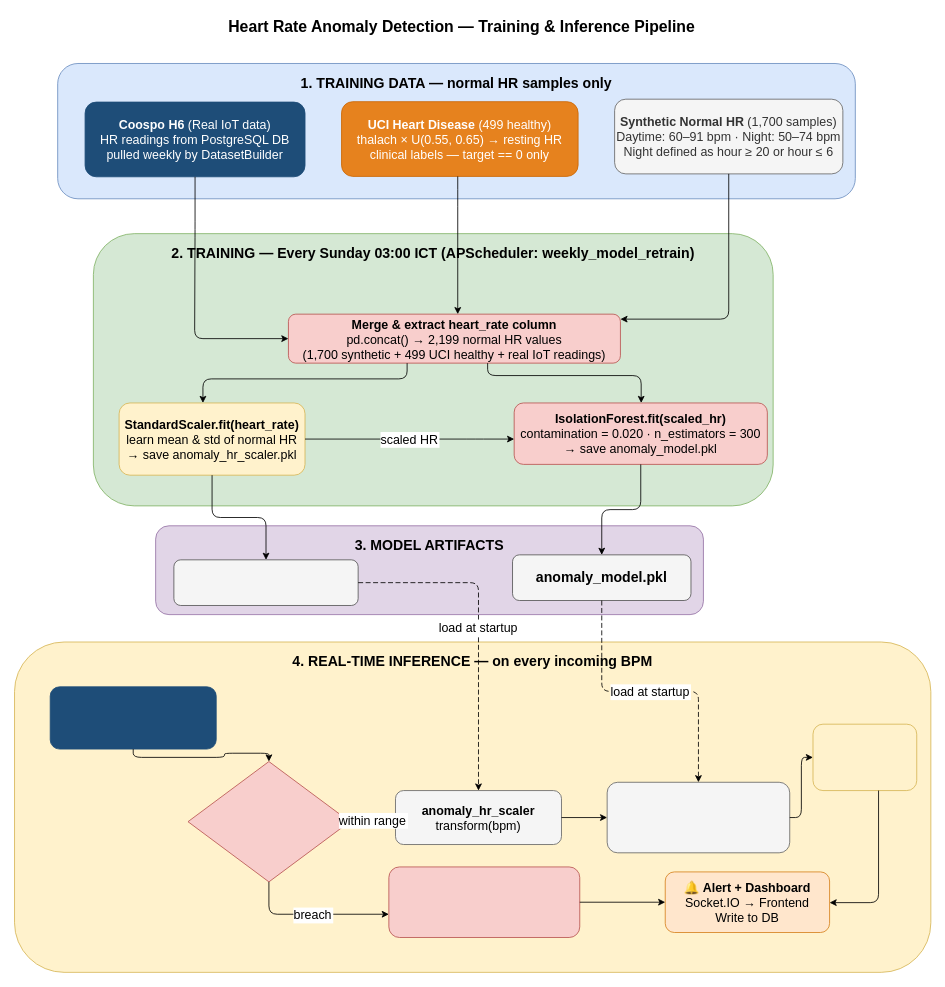
Some shapes in this 945 by 987 pixel diagram are drawn without their labels. Here are the shapes that lost their labels. From the top down, the centre of each, then its label:
At pixel 265 582: "anomaly_hr_scaler.pkl".
At pixel 132 717: "New BPM Coospo H6 → MQTT → Flask".
At pixel 864 757: "Risk Classification Normal · Caution Warning · Critical".
At pixel 268 821: "Rule-based Check ≥ 130 → Emergency ≥ 100 → Warning High < 50 → Warning Low".
At pixel 698 817: "anomaly_model predict(scaled_hr) −1 = anomaly · +1 = normal".
At pixel 484 901: "HRV Analyzer (parallel) RMSSD · SDNN · pNN50 60-reading sliding window".
